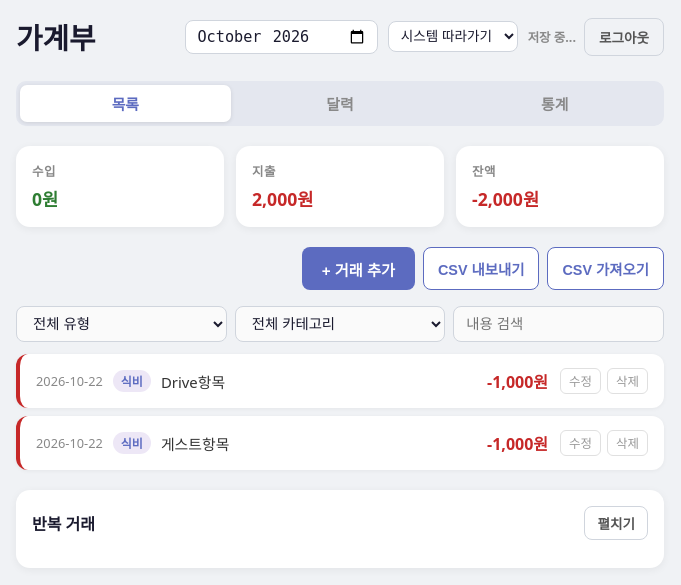
Test case: (vi) 이전 세션의 늦은 저장 성공이 새 세션의 게스트 저장소를 비우지 않는다
Click the button "로그아웃" at (624, 36), box left=584, top=18, right=664, bottom=56
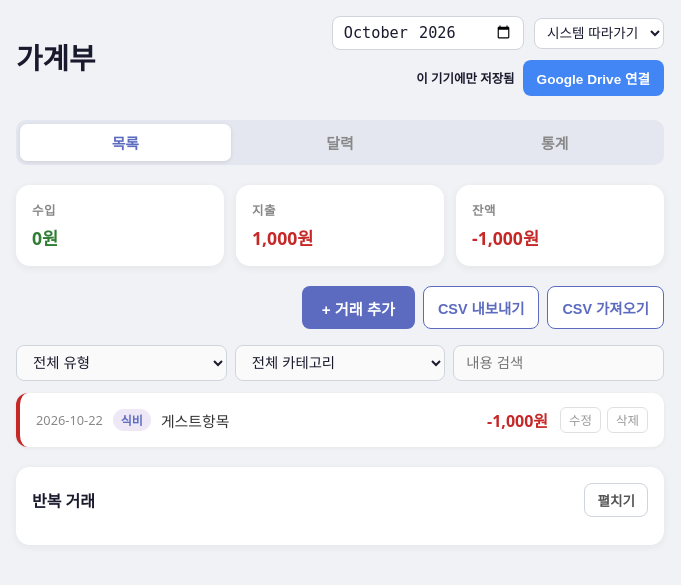
Click the button "Google Drive 연결" at (593, 78), box left=523, top=60, right=664, bottom=96
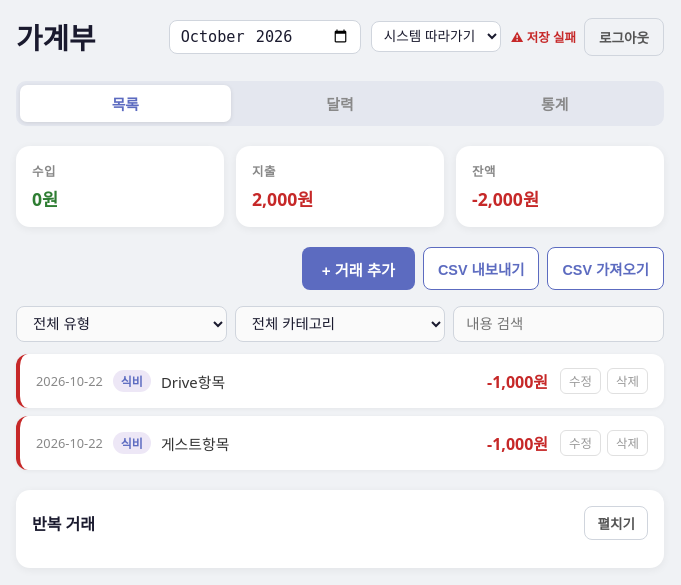
Result: the text "⚠ 저장 실패" is shown at left=511, top=28, right=576, bottom=46
